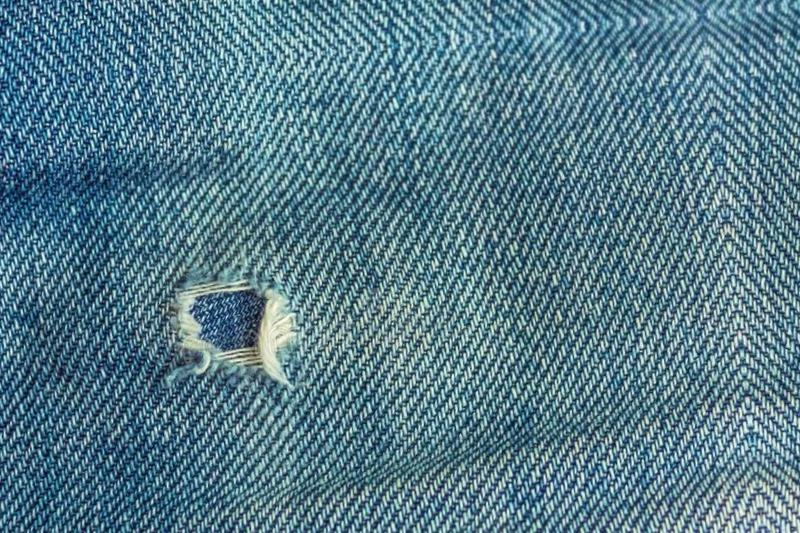hole: (156, 273, 301, 386)
